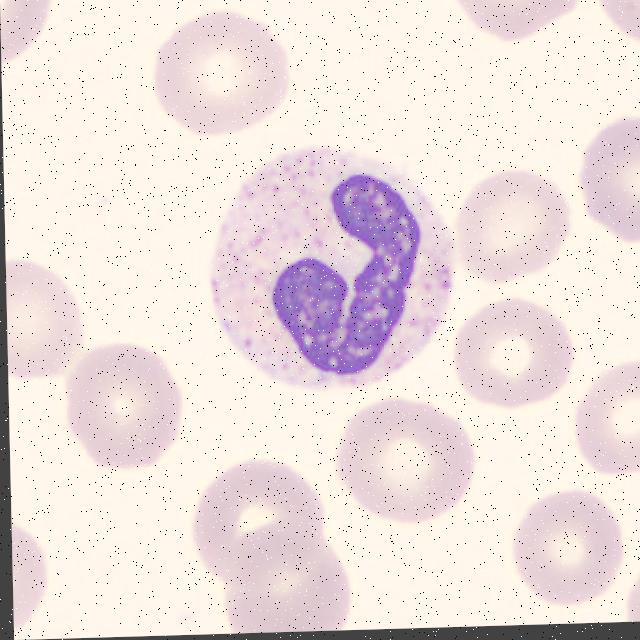neutrophil: (202, 138, 459, 396)
rbc: (148, 6, 299, 148), (58, 325, 187, 480), (187, 460, 325, 590), (334, 398, 472, 528), (452, 157, 578, 294), (510, 482, 626, 623), (211, 526, 352, 634), (448, 301, 574, 407), (5, 233, 89, 390), (441, 0, 589, 63), (569, 357, 640, 483), (576, 114, 640, 253), (0, 0, 76, 83), (12, 519, 64, 640), (593, 0, 640, 54), (613, 553, 640, 622)
